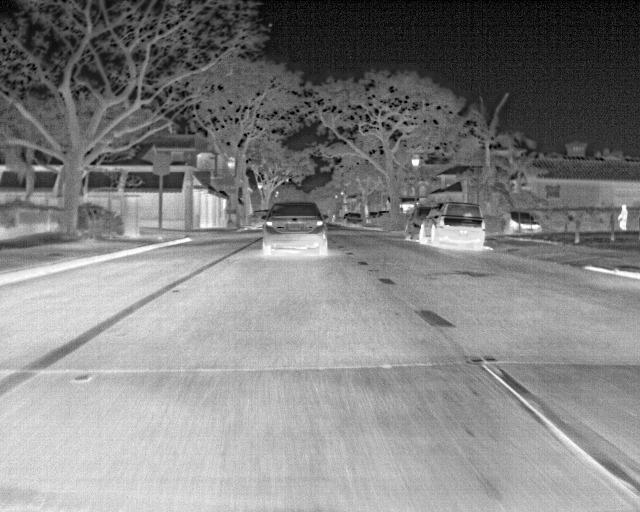bicycle: (260, 200, 329, 258), (418, 202, 486, 247), (403, 204, 431, 241), (244, 208, 270, 232), (510, 212, 542, 231), (340, 211, 362, 228)
empty: (616, 202, 628, 232)
